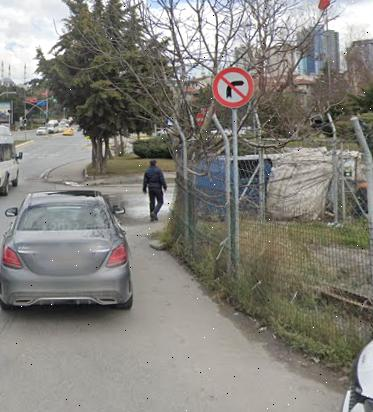rightturnsareforbidden: (213, 66, 253, 105)
